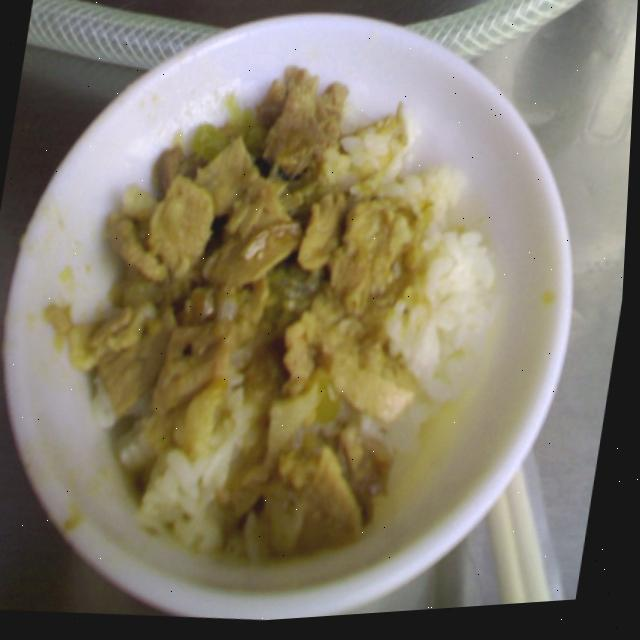猪肉菜式: (41, 24, 520, 615)
